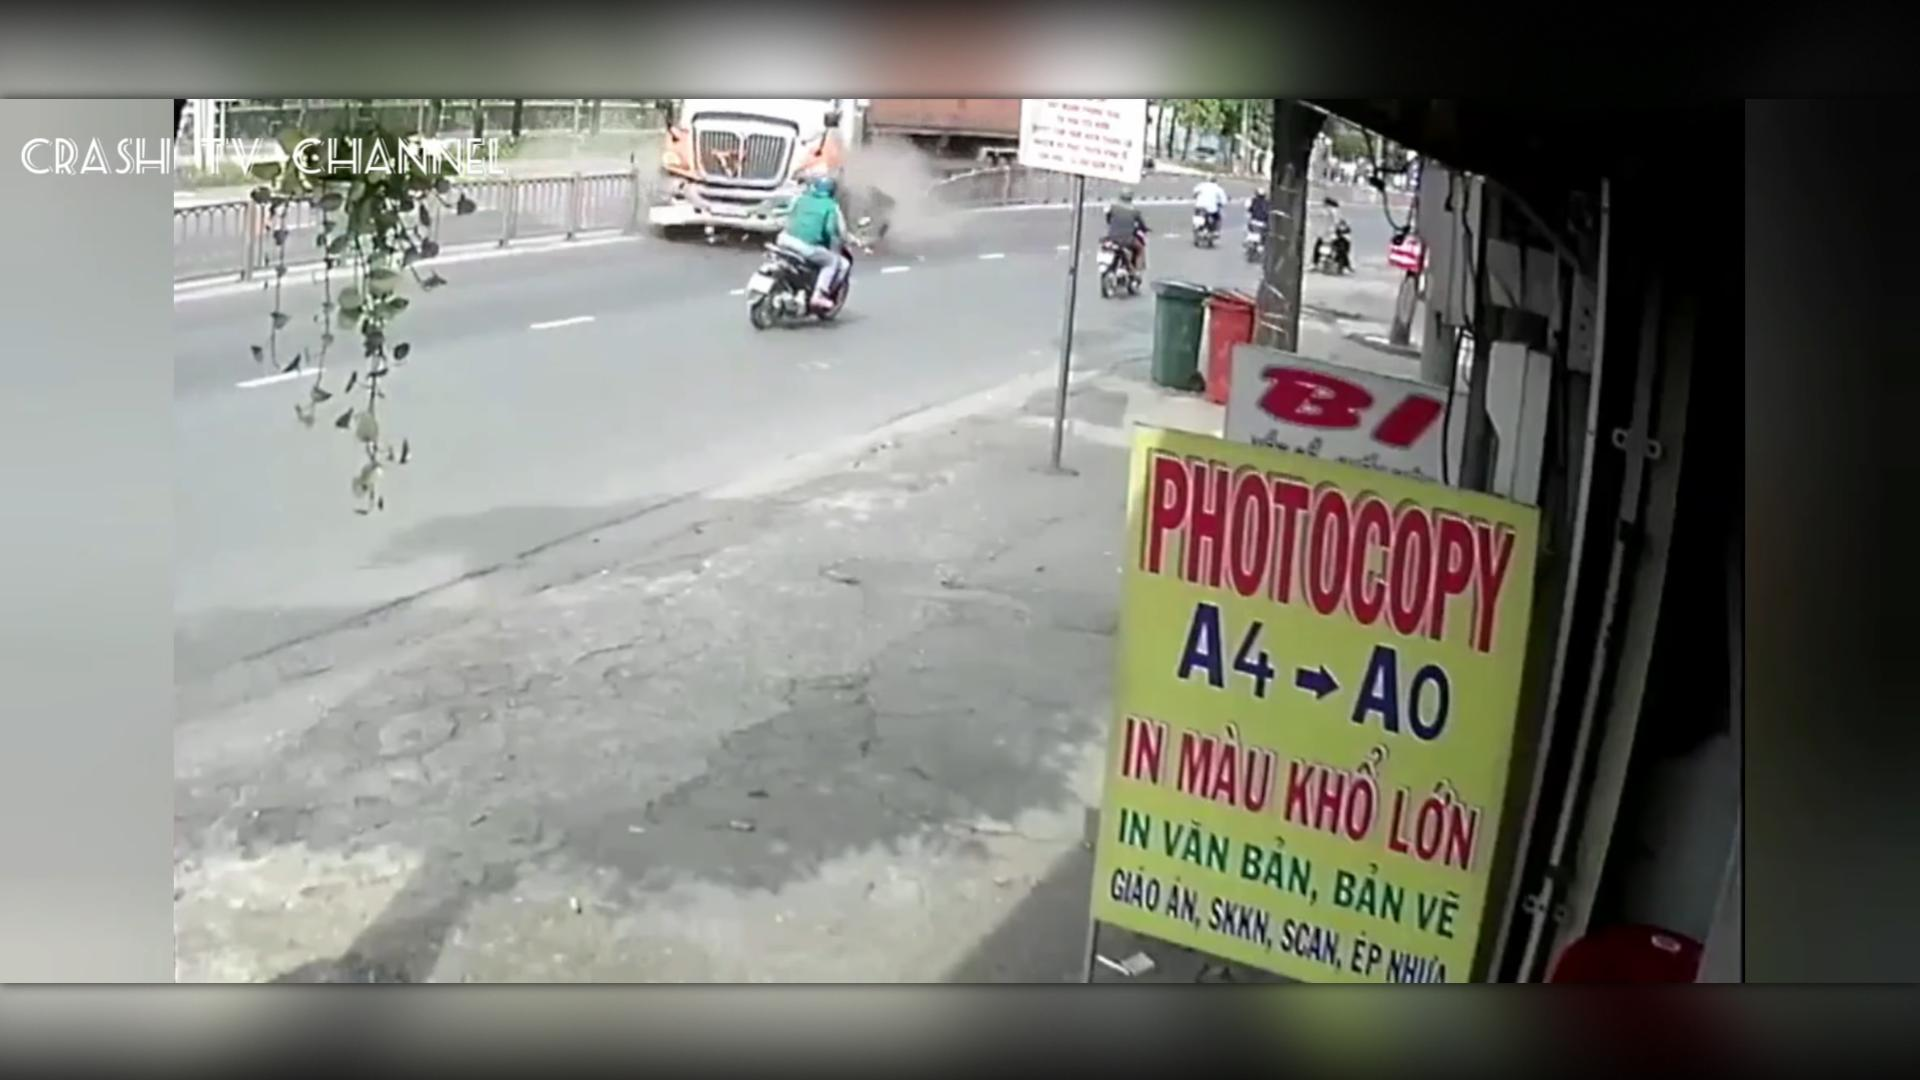accident: (650, 103, 957, 335)
